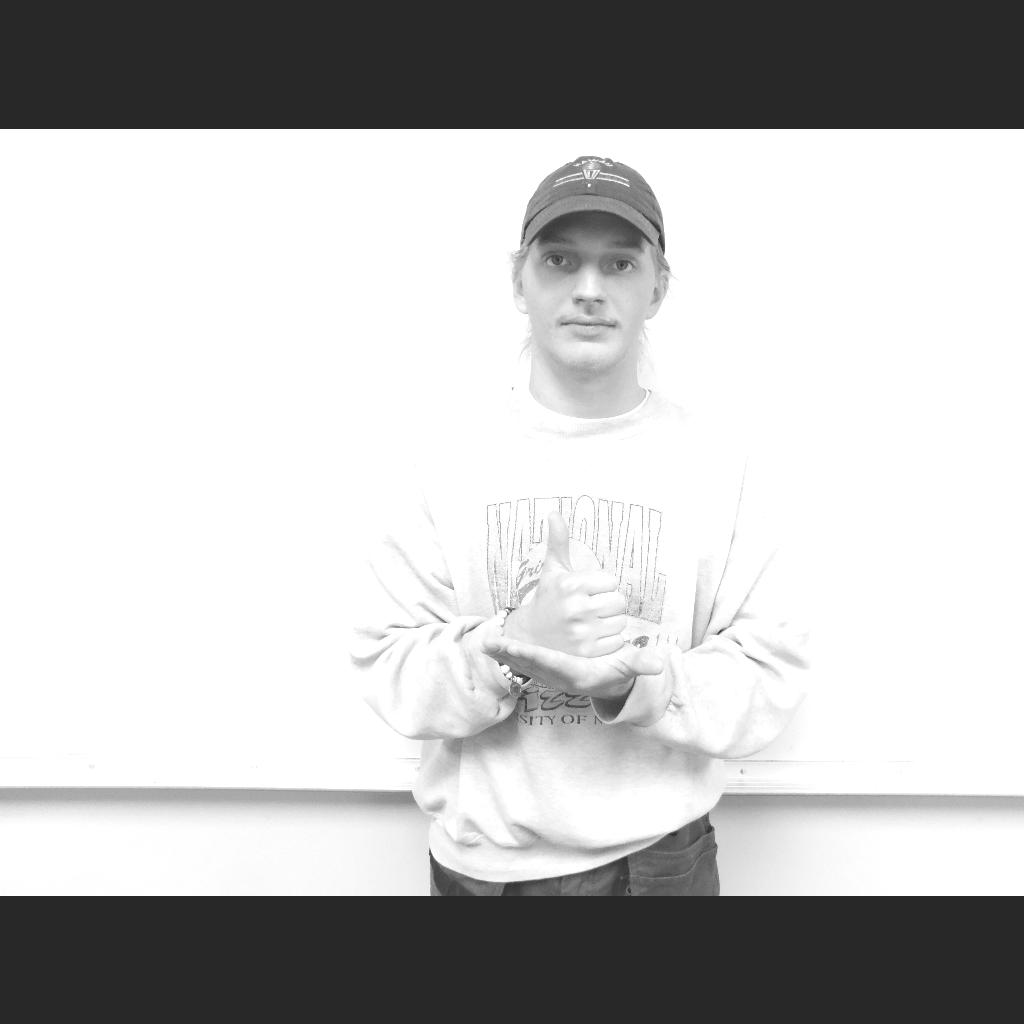help: (480, 510, 664, 698)
